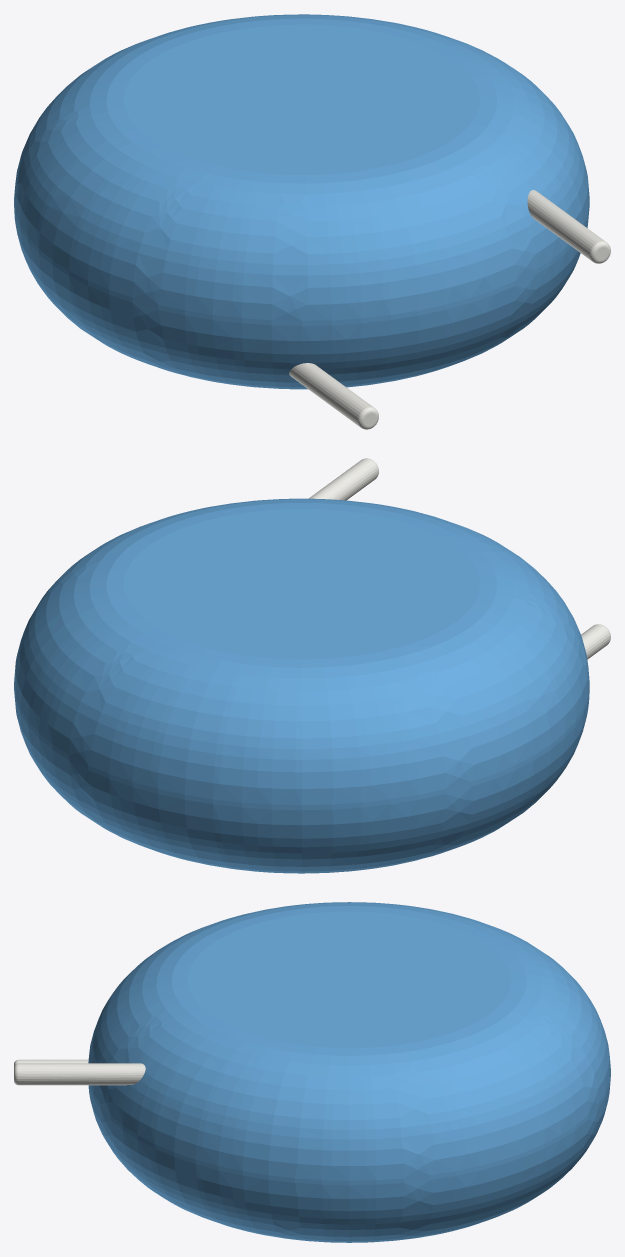
Rendered from RV_Disc_D21.5mm_W8.4mm_P10mm.glb.
3 renders of one model, top to bottom at view 1: azimuth 30°, elevation 25°; view 2: azimuth 150°, elevation 25°; view 3: azimuth 270°, elevation 25°, orthographic. The views are drawn at different scales.
Visible parts, largest first — view 1: Shape_IndexedFaceSet.001, Shape_IndexedFaceSet.003, Shape_IndexedFaceSet.002, Shape_IndexedFaceSet, Shape_IndexedFaceSet.004, Shape_IndexedFaceSet.006; view 2: Shape_IndexedFaceSet.001, Shape_IndexedFaceSet.003, Shape_IndexedFaceSet.002, Shape_IndexedFaceSet, Shape_IndexedFaceSet.004, Shape_IndexedFaceSet.006; view 3: Shape_IndexedFaceSet.001, Shape_IndexedFaceSet.003, Shape_IndexedFaceSet.002, Shape_IndexedFaceSet.004, Shape_IndexedFaceSet.
Part boxes in pixels (x1,y1,x2,y2): Shape_IndexedFaceSet.001: [14, 14, 589, 320]; Shape_IndexedFaceSet.003: [123, 24, 479, 175]; Shape_IndexedFaceSet.002: [14, 206, 589, 389]; Shape_IndexedFaceSet: [14, 201, 589, 325]; Shape_IndexedFaceSet.004: [527, 190, 605, 260]; Shape_IndexedFaceSet.006: [289, 363, 373, 426]; Shape_IndexedFaceSet.001: [14, 498, 589, 805]; Shape_IndexedFaceSet.003: [124, 509, 479, 659]; Shape_IndexedFaceSet.002: [14, 690, 589, 873]; Shape_IndexedFaceSet: [14, 685, 589, 810]; Shape_IndexedFaceSet.004: [309, 458, 378, 500]; Shape_IndexedFaceSet.006: [581, 624, 610, 659]; Shape_IndexedFaceSet.001: [88, 902, 610, 1180]; Shape_IndexedFaceSet.003: [187, 911, 511, 1047]; Shape_IndexedFaceSet.002: [88, 1076, 610, 1242]; Shape_IndexedFaceSet.004: [18, 1063, 145, 1085]; Shape_IndexedFaceSet: [89, 1072, 610, 1185].
Size of the model in its own units: 8.47 by 3.31 by 9.66.
